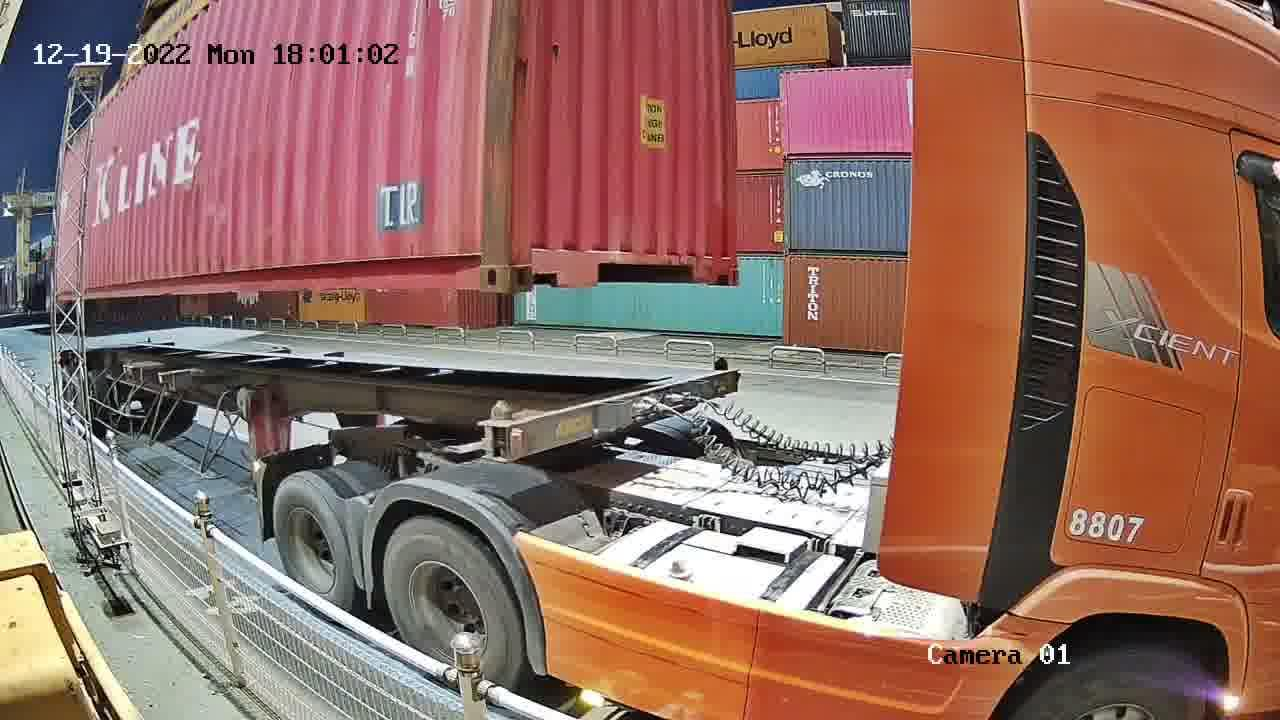Chassis: (480, 367, 740, 461)
Cone: (482, 398, 515, 462), (709, 353, 734, 376)
Hole_L: (505, 228, 568, 293)
Hole_R: (446, 231, 505, 294), (711, 245, 740, 286)
Tire: (382, 520, 521, 685), (272, 479, 353, 605)
